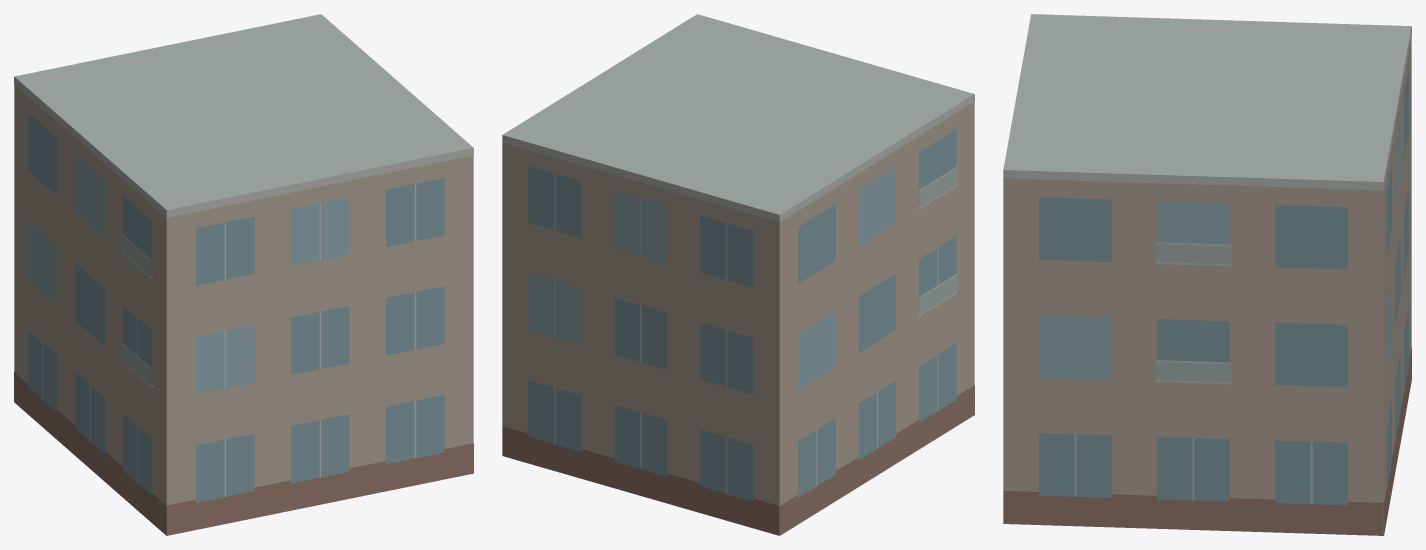
Rendered from survey-upis-32800426.glb.
The picture shows the model from 3 angles, left to right: view 1: azimuth 30°, elevation 25°; view 2: azimuth 150°, elevation 25°; view 3: azimuth 270°, elevation 25°; orthographic projection. The views are drawn at different scales.
Visible parts, largest first — view 1: survey-upis-32800426.tmp; view 2: survey-upis-32800426.tmp; view 3: survey-upis-32800426.tmp.
Part boxes in pixels (<box>): survey-upis-32800426.tmp: <box>14,14,473,535</box>; survey-upis-32800426.tmp: <box>502,14,974,535</box>; survey-upis-32800426.tmp: <box>1003,14,1411,535</box>.
Bounding box in the file's own units: 10.5 × 10.3 × 10.79.
